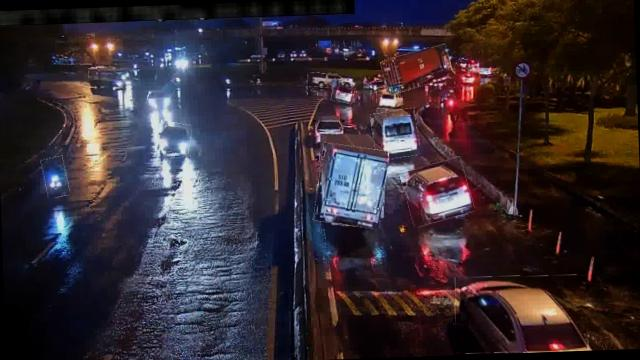Bike: (42, 156, 68, 198)
Bus: (371, 109, 420, 160), (331, 79, 355, 103)
Car: (454, 273, 590, 355), (402, 160, 473, 224), (157, 120, 192, 154), (375, 88, 403, 110), (307, 72, 338, 88)
Truck: (314, 144, 388, 229), (382, 48, 452, 92)
